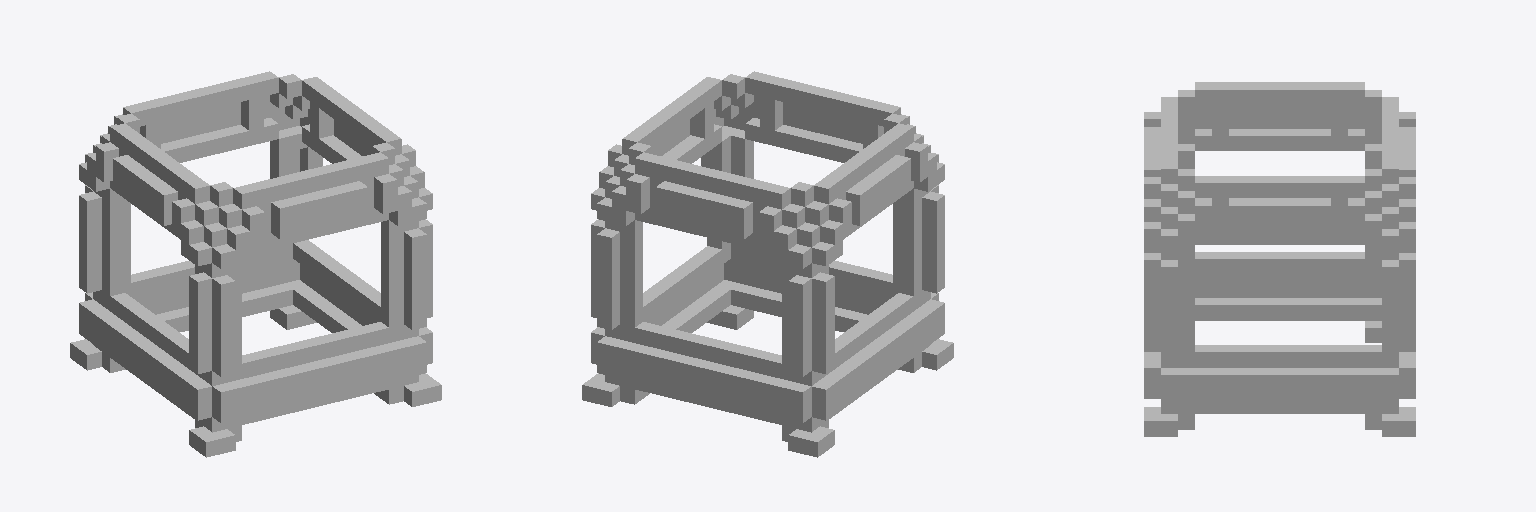
Rendered from SentryTower.obj.
3 renders of one model, left to right at view 1: azimuth 30°, elevation 25°; view 2: azimuth 150°, elevation 25°; view 3: azimuth 270°, elevation 25°, orthographic.
Visible parts, largest first — view 1: SentryTower; view 2: SentryTower; view 3: SentryTower.
Part boxes in pixels (bbox=[...]): SentryTower: bbox=[70, 71, 441, 457]; SentryTower: bbox=[582, 71, 953, 457]; SentryTower: bbox=[1144, 82, 1415, 436].
Bounding box in the file's own units: 1.6 × 1.6 × 1.6.